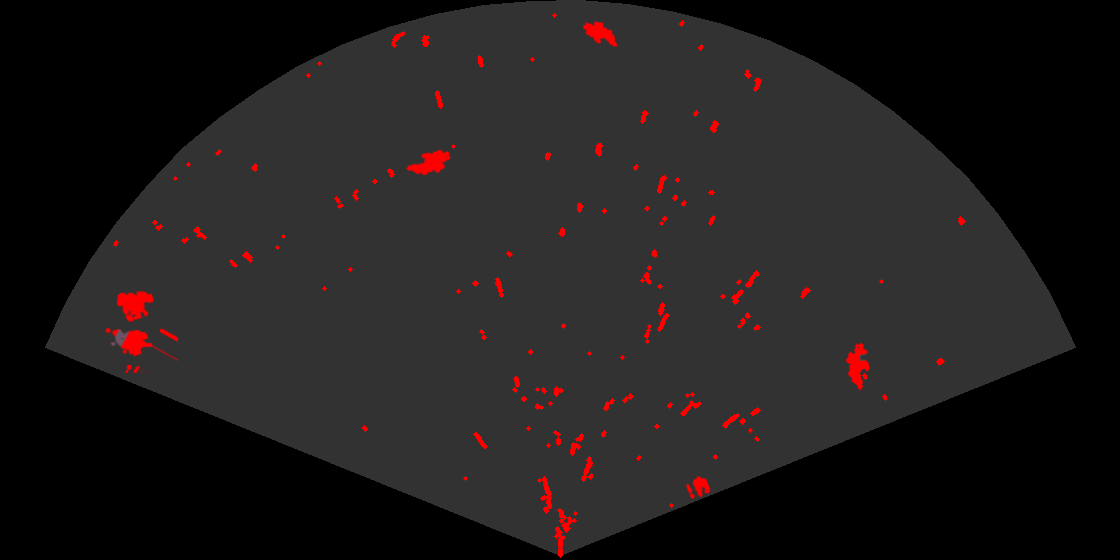AUV: (844, 341, 871, 392), (405, 148, 452, 177), (581, 19, 619, 48)
ball: (684, 474, 712, 501)
cage: (104, 289, 178, 373)
